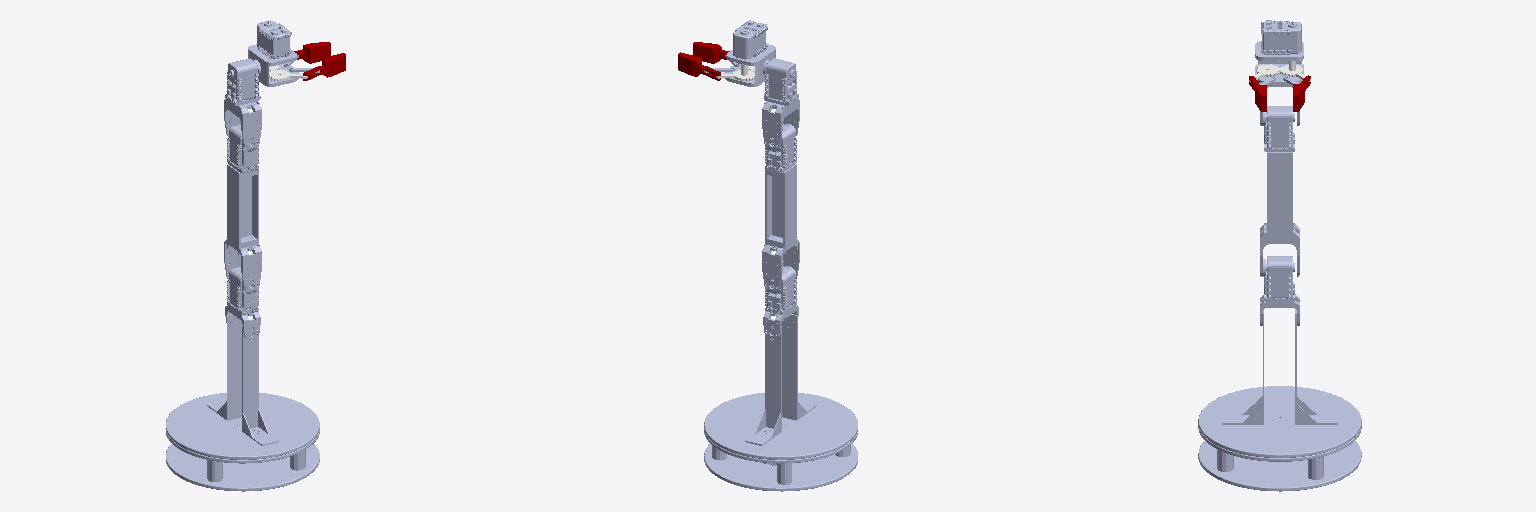
robot.urdf — ahman_robot:
<?xml version="1.0" encoding="utf-8"?>
<!-- This URDF was automatically created by SolidWorks to URDF Exporter! Originally created by [author] ([email redacted]) 
     Commit Version: 1.6.0-1-g15f4949  Build Version: 1.6.7594.29634
     For more information, please see http://wiki.ros.org/sw_urdf_exporter -->
<robot
  name="ahman_robot">
  <link
    name="base_link">
    <inertial>
      <origin
        xyz="4.03515664332277E-06 0.00156731385501752 0.0194386010664612"
        rpy="0 0 0" />
      <mass
        value="0.341700717762722" />
      <inertia
        ixx="0.000988663190405644"
        ixy="-1.04160274271504E-08"
        ixz="-1.46302809934933E-09"
        iyy="0.000983473535631327"
        iyz="-2.20301206814554E-07"
        izz="0.00175721561725007" />
    </inertial>
    <visual>
      <origin
        xyz="0 0 0"
        rpy="0 0 0" />
      <geometry>
        <mesh
          filename="package://ahman_robot_description/meshes/base_link.STL" />
      </geometry>
      <material
        name="">
        <color
          rgba="0.792156862745098 0.819607843137255 0.933333333333333 1" />
      </material>
    </visual>
    <collision>
      <origin
        xyz="0 0 0"
        rpy="0 0 0" />
      <geometry>
        <mesh
          filename="package://ahman_robot_description/meshes/base_link.STL" />
      </geometry>
    </collision>
  </link>
  <link
    name="shoulder_lnik">
    <inertial>
      <origin
        xyz="0.000101238677035154 -0.000114305022123146 0.0495521735599035"
        rpy="0 0 0" />
      <mass
        value="0.230749674146513" />
      <inertia
        ixx="0.000462188953983829"
        ixy="-1.46726651813318E-09"
        ixz="-1.04430975449333E-08"
        iyy="0.000456255559294962"
        iyz="-1.90943812456882E-07"
        izz="0.000797285270507836" />
    </inertial>
    <visual>
      <origin
        xyz="0 0 0"
        rpy="0 0 0" />
      <geometry>
        <mesh
          filename="package://ahman_robot_description/meshes/shoulder_lnik.STL" />
      </geometry>
      <material
        name="">
        <color
          rgba="0.792156862745098 0.819607843137255 0.933333333333333 1" />
      </material>
    </visual>
    <collision>
      <origin
        xyz="0 0 0"
        rpy="0 0 0" />
      <geometry>
        <mesh
          filename="package://ahman_robot_description/meshes/shoulder_lnik.STL" />
      </geometry>
    </collision>
  </link>
  <joint
    name="shoulder_joint"
    type="revolute">
    <origin
      xyz="0 0 0.045"
      rpy="0 0 0" />
    <parent
      link="base_link" />
    <child
      link="shoulder_lnik" />
    <axis
      xyz="0 0 -1" />
		<limit
      lower="-2.2689280275926285"
      upper="2.2689280275926285"
      effort="0"
      velocity="0" />  
  </joint>
  <link
    name="elbow_link">
    <inertial>
      <origin
        xyz="6.68706254368101E-05 0.0205389315072919 0.132700787352869"
        rpy="0 0 0" />
      <mass
        value="0.096262640443939" />
      <inertia
        ixx="7.6702370653249E-05"
        ixy="-1.45413248580412E-09"
        ixz="-9.030856196559E-08"
        iyy="7.24501645017268E-05"
        iyz="-1.90966118088874E-07"
        izz="1.90081952297504E-05" />
    </inertial>
    <visual>
      <origin
        xyz="0 0 0"
        rpy="0 0 0" />
      <geometry>
        <mesh
          filename="package://ahman_robot_description/meshes/elbow_link.STL" />
      </geometry>
      <material
        name="">
        <color
          rgba="0.792156862745098 0.819607843137255 0.933333333333333 1" />
      </material>
    </visual>
    <collision>
      <origin
        xyz="0 0 0"
        rpy="0 0 0" />
      <geometry>
        <mesh
          filename="package://ahman_robot_description/meshes/elbow_link.STL" />
      </geometry>
    </collision>
  </link>
  <joint
    name="elbow_joint"
    type="revolute">
    <origin
      xyz="0.00034037 -0.021063 0.2115"
      rpy="0 0 0" />
    <parent
      link="shoulder_lnik" />
    <child
      link="elbow_link" />
    <axis
      xyz="0 1 0" />
    <limit
      lower="0"
      upper="1.5707963267948966"
      effort="0"
      velocity="0" />
  </joint>
  <link
    name="wrist_link">
    <inertial>
      <origin
        xyz="0.000241253995371227 0.0205903281834586 0.0675596012185864"
        rpy="0 0 0" />
      <mass
        value="0.0582938416196411" />
      <inertia
        ixx="1.93982453388511E-05"
        ixy="1.47192371761609E-09"
        ixz="2.70708158228733E-07"
        iyy="1.72343098370362E-05"
        iyz="-1.05212597232834E-08"
        izz="1.29425910830237E-05" />
    </inertial>
    <visual>
      <origin
        xyz="0 0 0"
        rpy="0 0 0" />
      <geometry>
        <mesh
          filename="package://ahman_robot_description/meshes/wrist_link.STL" />
      </geometry>
      <material
        name="">
        <color
          rgba="0.792156862745098 0.819607843137255 0.933333333333333 1" />
      </material>
    </visual>
    <collision>
      <origin
        xyz="0 0 0"
        rpy="0 0 0" />
      <geometry>
        <mesh
          filename="package://ahman_robot_description/meshes/wrist_link.STL" />
      </geometry>
    </collision>
  </link>
  <joint
    name="wrist_joint"
    type="revolute">
    <origin
      xyz="0 0 0.2032"
      rpy="0 0 0" />
    <parent
      link="elbow_link" />
    <child
      link="wrist_link" />
    <axis
      xyz="0 1 0" />
    <limit
      lower="0"
      upper="1.5707963267948966"
      effort="0"
      velocity="0" />
  </joint>
  <link
    name="knuckle_link">
    <inertial>
      <origin
        xyz="0.0235984795025687 0.000742750048917579 0.0180124642206413"
        rpy="0 0 0" />
      <mass
        value="0.070331938721002" />
      <inertia
        ixx="2.52473213768789E-05"
        ixy="6.19115593070956E-08"
        ixz="7.62601432924068E-07"
        iyy="1.93683930570014E-05"
        iyz="1.8098195926761E-07"
        izz="2.54377352659079E-05" />
    </inertial>
    <visual>
      <origin
        xyz="0 0 0"
        rpy="0 0 0" />
      <geometry>
        <mesh
          filename="package://ahman_robot_description/meshes/knuckle_link.STL" />
      </geometry>
      <material
        name="">
        <color
          rgba="0.792156862745098 0.819607843137255 0.933333333333333 1" />
      </material>
    </visual>
    <collision>
      <origin
        xyz="0 0 0"
        rpy="0 0 0" />
      <geometry>
        <mesh
          filename="package://ahman_robot_description/meshes/knuckle_link.STL" />
      </geometry>
    </collision>
  </link>
  <joint
    name="knuckle_joint"
    type="revolute">
    <origin
      xyz="0.021 0.021 0.0952"
      rpy="0 0 0" />
    <parent
      link="wrist_link" />
    <child
      link="knuckle_link" />
    <axis
      xyz="-1 0 0" />
    <limit
      lower="-2.2689280275926285"
      upper="2.2689280275926285"
      effort="0"
      velocity="0" />
  </joint>
  <link
    name="left_gear_link">
    <inertial>
      <origin
        xyz="0.00173202665550959 0.0010401447452989 -0.0157285877417442"
        rpy="0 0 0" />
      <mass
        value="0.00440214385375005" />
      <inertia
        ixx="3.54958340979828E-07"
        ixy="-1.03539021241121E-07"
        ixz="1.45367547115379E-08"
        iyy="4.31532581873505E-07"
        iyz="1.04315709445713E-08"
        izz="5.16608277909124E-07" />
    </inertial>
    <visual>
      <origin
        xyz="0 0 0"
        rpy="0 0 0" />
      <geometry>
        <mesh
          filename="package://ahman_robot_description/meshes/left_gear_link.STL" />
      </geometry>
      <material
        name="">
        <color
          rgba="1 1 1 1" />
      </material>
    </visual>
    <collision>
      <origin
        xyz="0 0 0"
        rpy="0 0 0" />
      <geometry>
        <mesh
          filename="package://ahman_robot_description/meshes/left_gear_link.STL" />
      </geometry>
    </collision>
  </link>
  <joint
    name="left_gear_joint"
    type="revolute">
    <origin
      xyz="0.025 0.015 0.0125"
      rpy="0 0 0" />
    <parent
      link="knuckle_link" />
    <child
      link="left_gear_link" />
    <axis
      xyz="0 0 1" />
    <limit
      lower="-0.51"
      upper="0.90"
      effort="0"
      velocity="0" />
  </joint>
  <link
    name="left_finger_tip_link">
    <inertial>
      <origin
        xyz="0.0441131161508655 -0.0111946654022016 9.65549627929274E-06"
        rpy="0 0 0" />
      <mass
        value="0.00995624544719296" />
      <inertia
        ixx="5.59096232163477E-07"
        ixy="4.76644387717978E-07"
        ixz="2.9656093283699E-09"
        iyy="2.68387876530051E-06"
        iyz="-6.68087296275808E-10"
        izz="2.53748010084301E-06" />
    </inertial>
    <visual>
      <origin
        xyz="0 0 0"
        rpy="0 0 0" />
      <geometry>
        <mesh
          filename="package://ahman_robot_description/meshes/left_finger_tip_link.STL" />
      </geometry>
      <material
        name="">
        <color
          rgba="0.698039215686274 0 0 1" />
      </material>
    </visual>
    <collision>
      <origin
        xyz="0 0 0"
        rpy="0 0 0" />
      <geometry>
        <mesh
          filename="package://ahman_robot_description/meshes/left_finger_tip_link.STL" />
      </geometry>
    </collision>
  </link>
  <joint
    name="left_finger_tip_joint"
    type="continuous">
    <origin
      xyz="0.027469 0.019609 -0.0235"
      rpy="0 0 0" />
    <parent
      link="left_gear_link" />
    <child
      link="left_finger_tip_link" />
    <axis
      xyz="0 0 -1" />
		<mimic joint="left_gear_joint"/>
  </joint>
  <link
    name="right_gear_link">
    <inertial>
      <origin
        xyz="0.00317775901945931 -0.00195624294520627 0"
        rpy="0 0 0" />
      <mass
        value="0.00239089226491989" />
      <inertia
        ixx="1.8389181007704E-07"
        ixy="1.00121330617587E-07"
        ixz="-1.13021825928484E-22"
        iyy="2.58723464874534E-07"
        iyz="1.29346077240487E-23"
        izz="4.39028936554194E-07" />
    </inertial>
    <visual>
      <origin
        xyz="0 0 0"
        rpy="0 0 0" />
      <geometry>
        <mesh
          filename="package://ahman_robot_description/meshes/right_gear_link.STL" />
      </geometry>
      <material
        name="">
        <color
          rgba="1 1 1 1" />
      </material>
    </visual>
    <collision>
      <origin
        xyz="0 0 0"
        rpy="0 0 0" />
      <geometry>
        <mesh
          filename="package://ahman_robot_description/meshes/right_gear_link.STL" />
      </geometry>
    </collision>
  </link>
  <joint
    name="right_gear_joint"
    type="continuous">
    <origin
      xyz="0.025 -0.015 -0.011"
      rpy="0 0 0" />
    <parent
      link="knuckle_link" />
    <child
      link="right_gear_link" />
    <axis
      xyz="0 0 -1" />
		<mimic joint="left_gear_joint"/>
  </joint>
  <link
    name="right_finger_tip_link">
    <inertial>
      <origin
        xyz="0.0441131161508605 0.0111946654022214 -0.000509655496279127"
        rpy="0 0 0" />
      <mass
        value="0.00995624544719294" />
      <inertia
        ixx="5.59096232163903E-07"
        ixy="-4.76644387718929E-07"
        ixz="-2.96560932836692E-09"
        iyy="2.68387876530007E-06"
        iyz="-6.68087296276518E-10"
        izz="2.537480100843E-06" />
    </inertial>
    <visual>
      <origin
        xyz="0 0 0"
        rpy="0 0 0" />
      <geometry>
        <mesh
          filename="package://ahman_robot_description/meshes/right_finger_tip_link.STL" />
      </geometry>
      <material
        name="">
        <color
          rgba="0.698039215686274 0 0 1" />
      </material>
    </visual>
    <collision>
      <origin
        xyz="0 0 0"
        rpy="0 0 0" />
      <geometry>
        <mesh
          filename="package://ahman_robot_description/meshes/right_finger_tip_link.STL" />
      </geometry>
    </collision>
  </link>
  <joint
    name="right_finger_tip_joint"
    type="continuous">
    <origin
      xyz="0.027469 -0.019609 0"
      rpy="0 0 0" />
    <parent
      link="right_gear_link" />
    <child
      link="right_finger_tip_link" />
    <axis
      xyz="0 0 1" />
		<mimic joint="left_gear_joint"/>
  </joint>
  <link
    name="left_finger_link">
    <inertial>
      <origin
        xyz="0.0137344597130272 0.0098046030715799 1.11022302462516E-16"
        rpy="0 0 0" />
      <mass
        value="0.000682275993524468" />
      <inertia
        ixx="2.72087572377812E-08"
        ixy="-3.38891767074032E-08"
        ixz="-5.54949239037448E-23"
        iyy="5.04888816707687E-08"
        iyz="-4.168685264938E-23"
        izz="7.66742249182632E-08" />
    </inertial>
    <visual>
      <origin
        xyz="0 0 0"
        rpy="0 0 0" />
      <geometry>
        <mesh
          filename="package://ahman_robot_description/meshes/left_finger_link.STL" />
      </geometry>
      <material
        name="">
        <color
          rgba="0.792156862745098 0.819607843137255 0.933333333333333 1" />
      </material>
    </visual>
    <collision>
      <origin
        xyz="0 0 0"
        rpy="0 0 0" />
      <geometry>
        <mesh
          filename="package://ahman_robot_description/meshes/left_finger_link.STL" />
      </geometry>
    </collision>
  </link>
  <joint
    name="left_finger_joint"
    type="continuous">
    <origin
      xyz="0.048 0.0075 -0.011"
      rpy="0 0 0" />
    <parent
      link="knuckle_link" />
    <child
      link="left_finger_link" />
    <axis
      xyz="0 0 1" />
		<mimic joint="left_gear_joint"/>
  </joint>
  <link
    name="right_finger_link">
    <inertial>
      <origin
        xyz="0.0137344597130273 -0.00980460307157982 1.11022302462516E-16"
        rpy="0 0 0" />
      <mass
        value="0.000682275993524469" />
      <inertia
        ixx="2.72087572377805E-08"
        ixy="3.3889176707403E-08"
        ixz="1.86987226295092E-23"
        iyy="5.04888816707694E-08"
        iyz="-1.7836171978725E-23"
        izz="7.66742249182632E-08" />
    </inertial>
    <visual>
      <origin
        xyz="0 0 0"
        rpy="0 0 0" />
      <geometry>
        <mesh
          filename="package://ahman_robot_description/meshes/right_finger_link.STL" />
      </geometry>
      <material
        name="">
        <color
          rgba="0.792156862745098 0.819607843137255 0.933333333333333 1" />
      </material>
    </visual>
    <collision>
      <origin
        xyz="0 0 0"
        rpy="0 0 0" />
      <geometry>
        <mesh
          filename="package://ahman_robot_description/meshes/right_finger_link.STL" />
      </geometry>
    </collision>
  </link>
  <joint
    name="right_finger_joint"
    type="continuous">
    <origin
      xyz="0.048 -0.0075 -0.011"
      rpy="0 0 0" />
    <parent
      link="knuckle_link" />
    <child
      link="right_finger_link" />
    <axis
      xyz="0 0 -1" />
		<mimic joint="left_gear_joint"/>
  </joint>
</robot>

--- Facts derived from the render (not from the file) ---
The picture shows the robot from 3 angles, left to right: view 1: azimuth 30°, elevation 25°; view 2: azimuth 150°, elevation 25°; view 3: azimuth 270°, elevation 25°; orthographic projection.
Model ahman_robot with 11 links and 10 joints (5 revolute, 5 continuous), rooted at base_link, posed every joint at zero.
Links seen in each view (by area): view 1: shoulder_lnik, base_link, elbow_link, wrist_link, knuckle_link, right_finger_tip_link, left_finger_tip_link; view 2: shoulder_lnik, base_link, elbow_link, wrist_link, knuckle_link, left_finger_tip_link, right_finger_tip_link; view 3: shoulder_lnik, base_link, elbow_link, knuckle_link.
Link boxes in pixels (left/top/right/bottom): shoulder_lnik: left=166, top=267, right=319, bottom=459; base_link: left=166, top=430, right=319, bottom=491; elbow_link: left=224, top=125, right=261, bottom=293; wrist_link: left=224, top=58, right=261, bottom=151; knuckle_link: left=248, top=20, right=299, bottom=86; right_finger_tip_link: left=303, top=53, right=345, bottom=80; left_finger_tip_link: left=294, top=42, right=330, bottom=63; shoulder_lnik: left=704, top=266, right=857, bottom=459; base_link: left=704, top=430, right=857, bottom=491; elbow_link: left=762, top=124, right=799, bottom=293; wrist_link: left=762, top=58, right=799, bottom=151; knuckle_link: left=724, top=20, right=775, bottom=86; left_finger_tip_link: left=678, top=52, right=720, bottom=80; right_finger_tip_link: left=693, top=42, right=729, bottom=63; shoulder_lnik: left=1198, top=256, right=1361, bottom=457; base_link: left=1198, top=425, right=1361, bottom=491; elbow_link: left=1260, top=106, right=1299, bottom=276; knuckle_link: left=1255, top=20, right=1303, bottom=85.
Bounding box of the posed robot: 0.2418 × 0.2 × 0.6074 m (x, y, z).
Meshes: 11 distinct files referenced, 11 mesh visuals loaded (11 binary STL).
